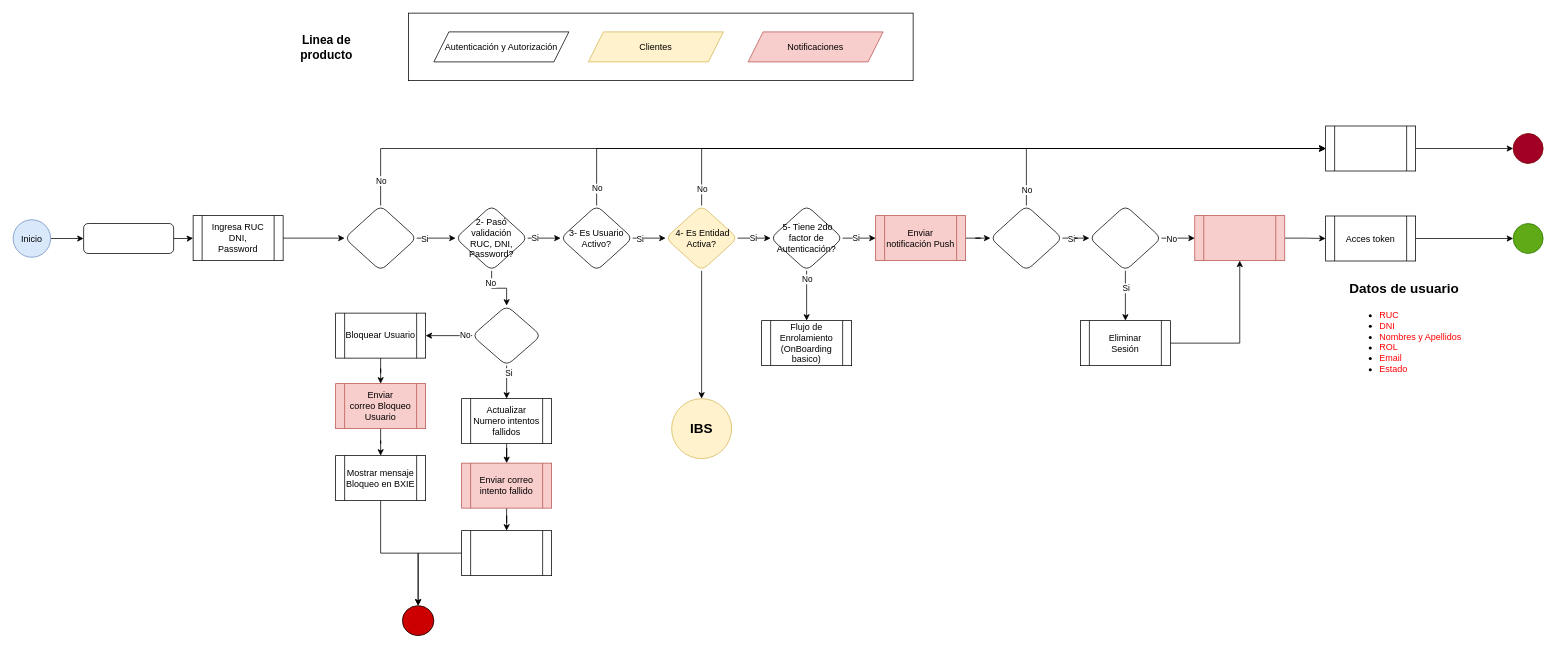
Image size: 1556x649. Some labels were removed from this diagram. Each missing label, with the box of its shape:
1- Pasó Validación r ecaptcha?: (344, 205, 417, 271)
6- Es valido 2do factor?: (990, 205, 1062, 271)
7- Tiene sesión Activa en otro dispositivo?: (1089, 205, 1161, 271)
Enviar correo inicio Sesión exitoso: (1194, 215, 1285, 261)
Fin: (402, 605, 434, 636)
Intentos < x: (471, 305, 541, 366)
Mostrar error de intentos en BXIE: (461, 530, 552, 576)
Mostrar error en BXIE: (1325, 125, 1416, 171)
Usuario accede al login: (83, 223, 174, 254)
